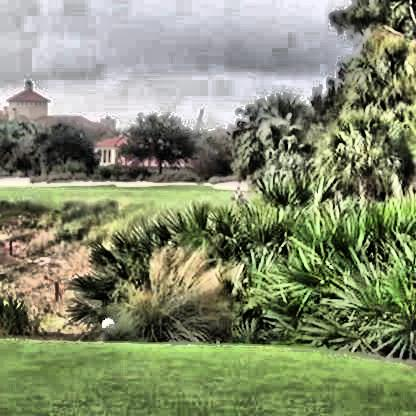golfball: (98, 315, 112, 331)
